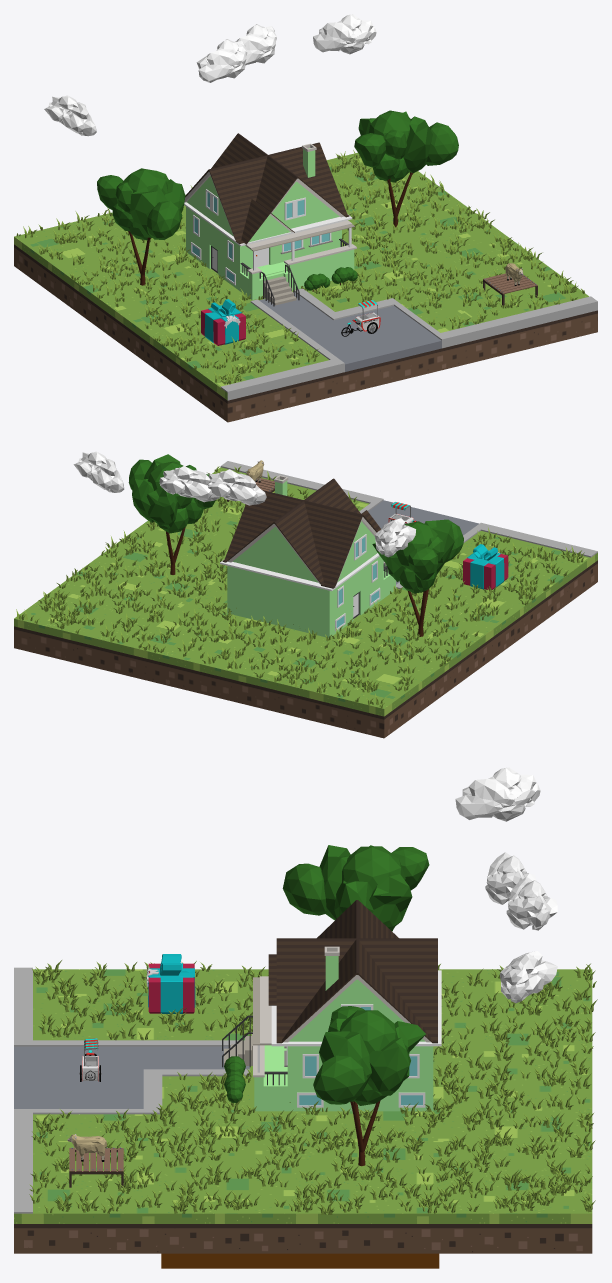
The picture shows the model from 3 angles, top to bottom: view 1: azimuth 30°, elevation 25°; view 2: azimuth 150°, elevation 25°; view 3: azimuth 270°, elevation 25°; orthographic projection. The views are drawn at different scales.
Visible parts, largest first — view 1: Cube.006, Cube.274, Circle.012_Grass_0.192, Cube.007, tree, tree.001, OBJRANDOM_GIANT_PRESENT, Cube.009, VEHICLES_SNOWBAL_BIKE; view 2: Cube.006, Cube.274, Circle.012_Grass_0.192, Cube.007, tree.001, tree, OBJRANDOM_GIANT_PRESENT; view 3: Cube.006, Circle.012_Grass_0.192, Cube.274, tree, Cube.007, tree.001, UNDERGROUND_ART_PIECE_VAN_GOGH, OBJRANDOM_GIANT_PRESENT, Cube.009, VEHICLES_SNOWBAL_BIKE, ANIMAL_OVEJA.
Boxes of the visible parts, left/top/right/bottom form: Cube.006: left=14, top=152, right=597, bottom=422; Cube.274: left=184, top=133, right=356, bottom=306; Circle.012_Grass_0.192: left=16, top=150, right=584, bottom=384; Cube.007: left=44, top=14, right=376, bottom=136; tree: left=354, top=110, right=458, bottom=227; tree.001: left=97, top=168, right=185, bottom=285; OBJRANDOM_GIANT_PRESENT: left=201, top=299, right=245, bottom=345; Cube.009: left=483, top=273, right=537, bottom=305; VEHICLES_SNOWBAL_BIKE: left=341, top=300, right=380, bottom=336; Cube.006: left=14, top=461, right=597, bottom=738; Cube.274: left=220, top=475, right=395, bottom=637; Circle.012_Grass_0.192: left=16, top=466, right=584, bottom=708; Cube.007: left=73, top=451, right=415, bottom=557; tree.001: left=372, top=519, right=463, bottom=636; tree: left=128, top=454, right=215, bottom=574; OBJRANDOM_GIANT_PRESENT: left=463, top=544, right=508, bottom=589; Cube.006: left=14, top=967, right=592, bottom=1253; Circle.012_Grass_0.192: left=29, top=960, right=597, bottom=1214; Cube.274: left=222, top=900, right=441, bottom=1111; tree: left=313, top=1006, right=425, bottom=1166; Cube.007: left=455, top=767, right=557, bottom=1003; tree.001: left=282, top=845, right=429, bottom=931; UNDERGROUND_ART_PIECE_VAN_GOGH: left=161, top=1253, right=439, bottom=1268; OBJRANDOM_GIANT_PRESENT: left=146, top=954, right=195, bottom=1013; Cube.009: left=69, top=1147, right=123, bottom=1187; VEHICLES_SNOWBAL_BIKE: left=79, top=1038, right=101, bottom=1081; ANIMAL_OVEJA: left=67, top=1134, right=106, bottom=1161.
Bounding box in the file's own units: 4071 × 2301 × 4040.
36 materials, 4 textured.
